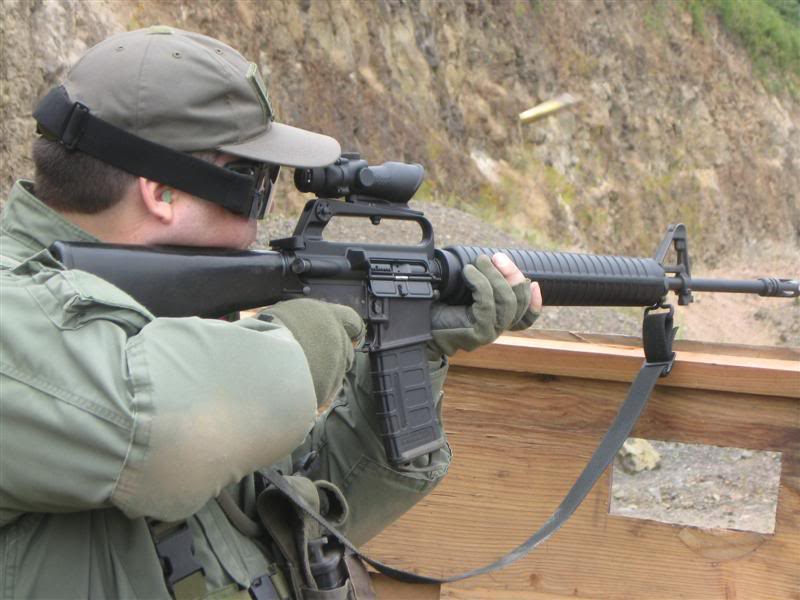Rifle: (39, 147, 800, 463)
